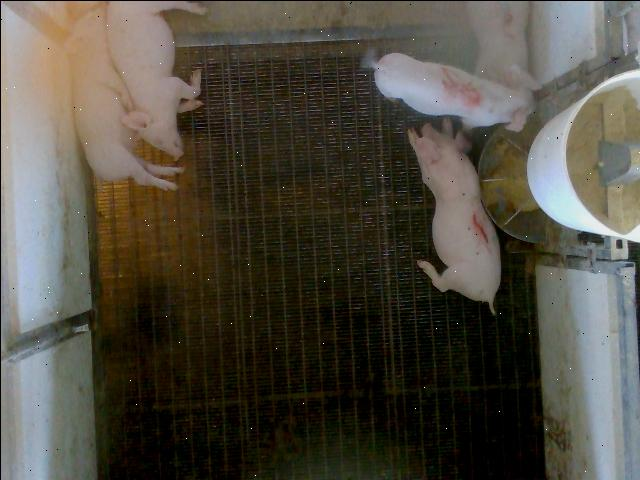pig-1: (406, 117, 500, 312)
pig-3: (466, 2, 540, 88)
pig-5: (374, 52, 534, 130)
